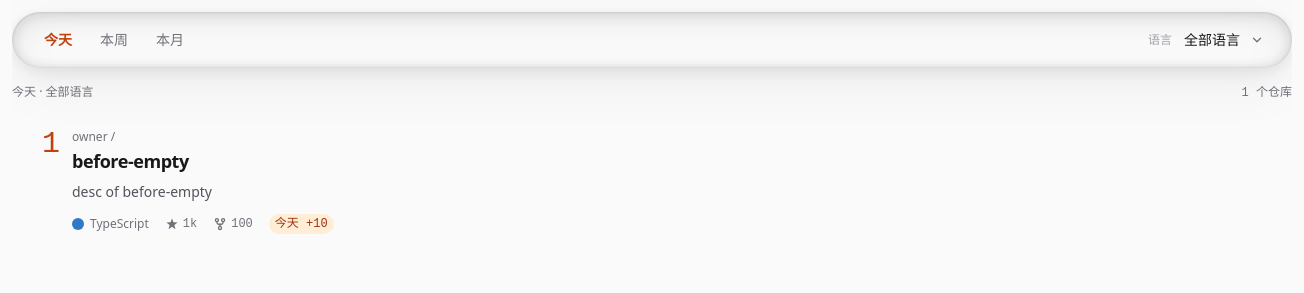
Test: RepoBrowser › renders EmptyState when the proxy returns an empty list
Click the button "本周": coordinates (114, 40) [88,24,140,56]
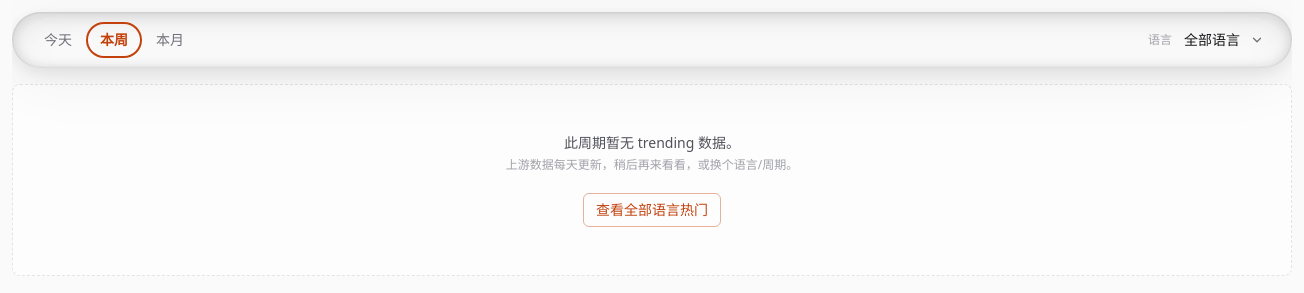
Check: the link "查看全部语言热门" is shown, box [583,193,721,227]
